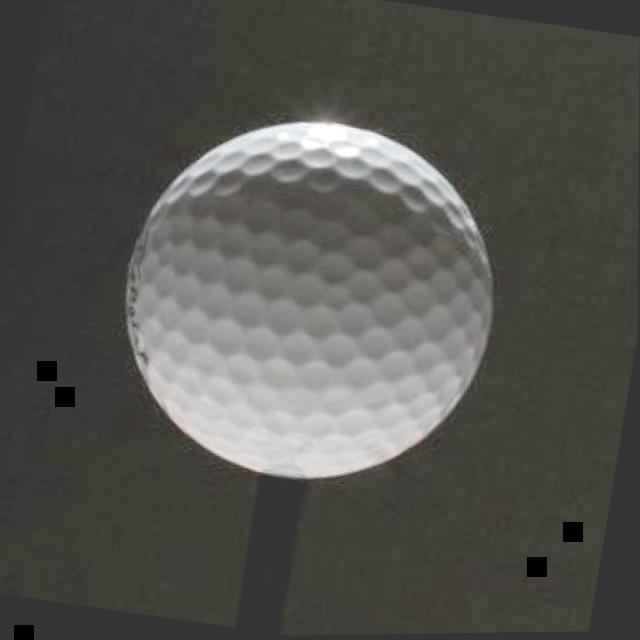golf ball: (86, 79, 531, 510)
